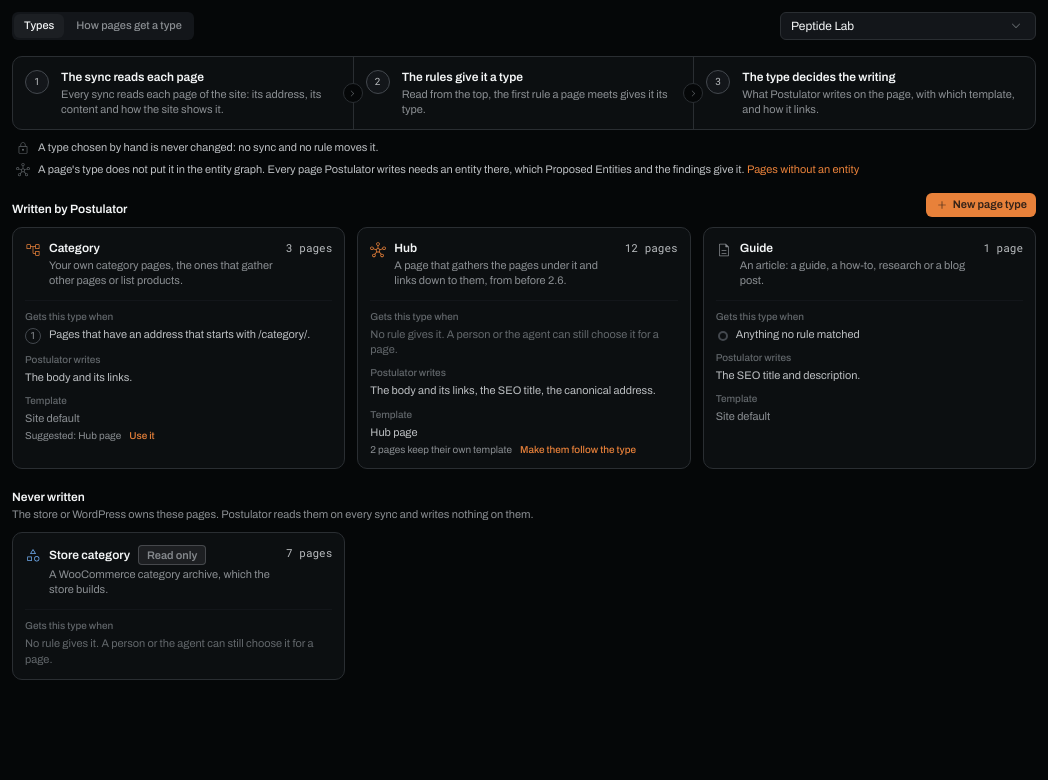
Test: Settings, Page types, how a page gets its type › switches to the rules and back
Click the radio button labelled "How pages get a type".
click(129, 26)  # box [66,14,192,38]
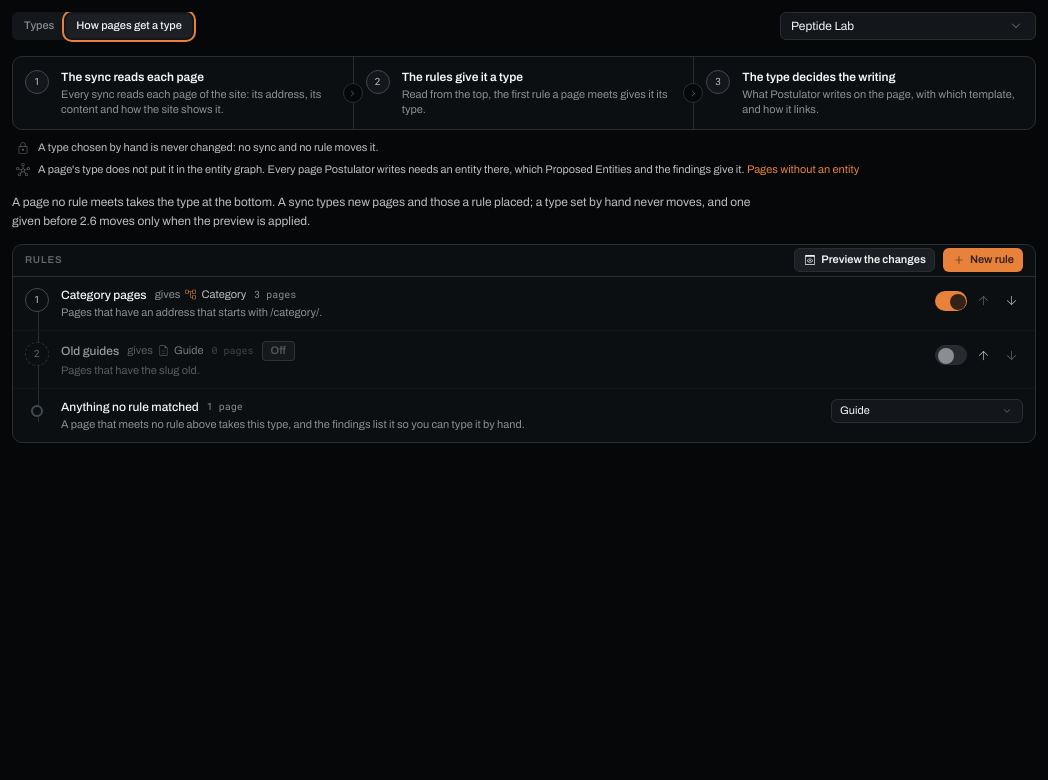
Click the radio button labelled "Types".
click(39, 26)  # box [14,14,64,38]
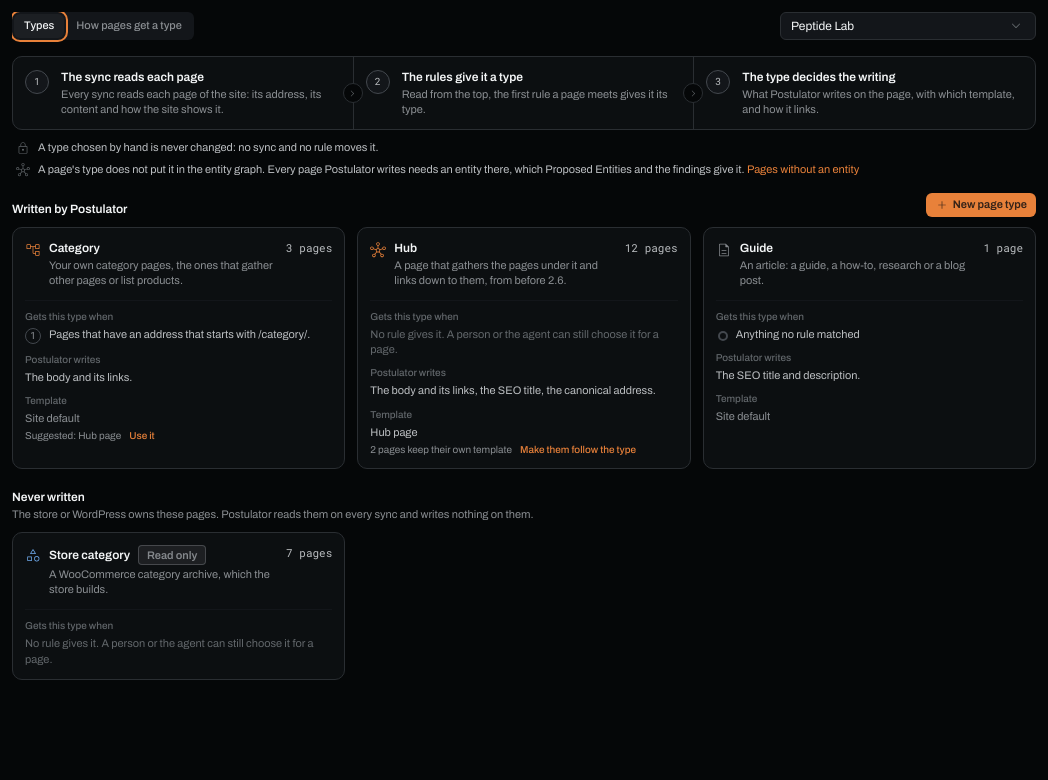
Now the element "Category" is shown, box [12,227,345,469]
